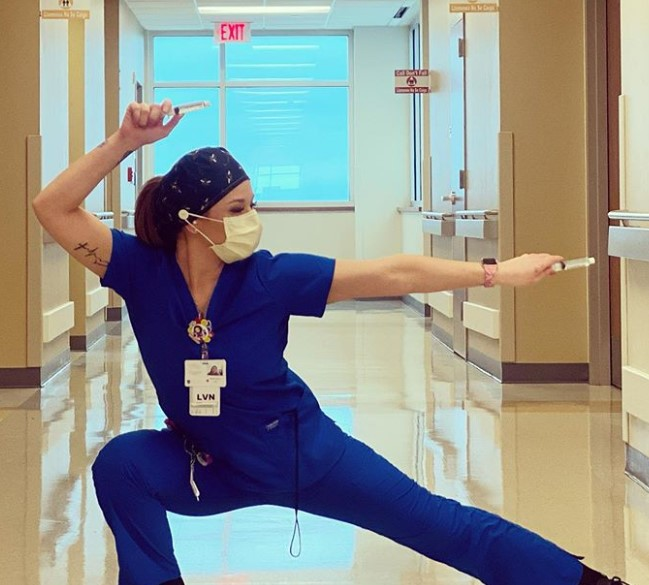face_with_mask: (157, 144, 264, 267)
